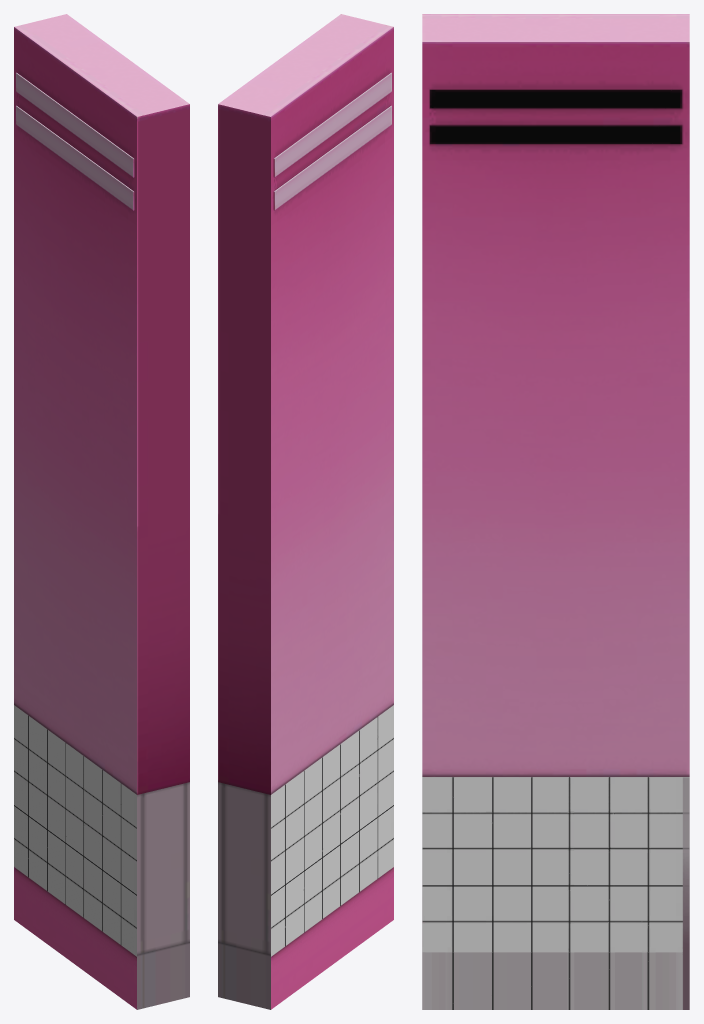
The model's file is my_gamecenter_01_p_wall_right.glb.
3 views of the same model, side by side, from view 1: azimuth 30°, elevation 25°; view 2: azimuth 150°, elevation 25°; view 3: azimuth 270°, elevation 25° (orthographic). The views are drawn at different scales.
Visible parts, largest first — view 1: my_gamecenter_01_p_wall_right; view 2: my_gamecenter_01_p_wall_right; view 3: my_gamecenter_01_p_wall_right.
Boxes of the visible parts, box(x1,y1,x2,y2) form: my_gamecenter_01_p_wall_right: box(14, 14, 189, 1009); my_gamecenter_01_p_wall_right: box(218, 14, 393, 1009); my_gamecenter_01_p_wall_right: box(422, 14, 689, 1009).
Size of the model in its own units: 0.00303 by 0.048 by 0.012.
2 materials, 2 textured.
